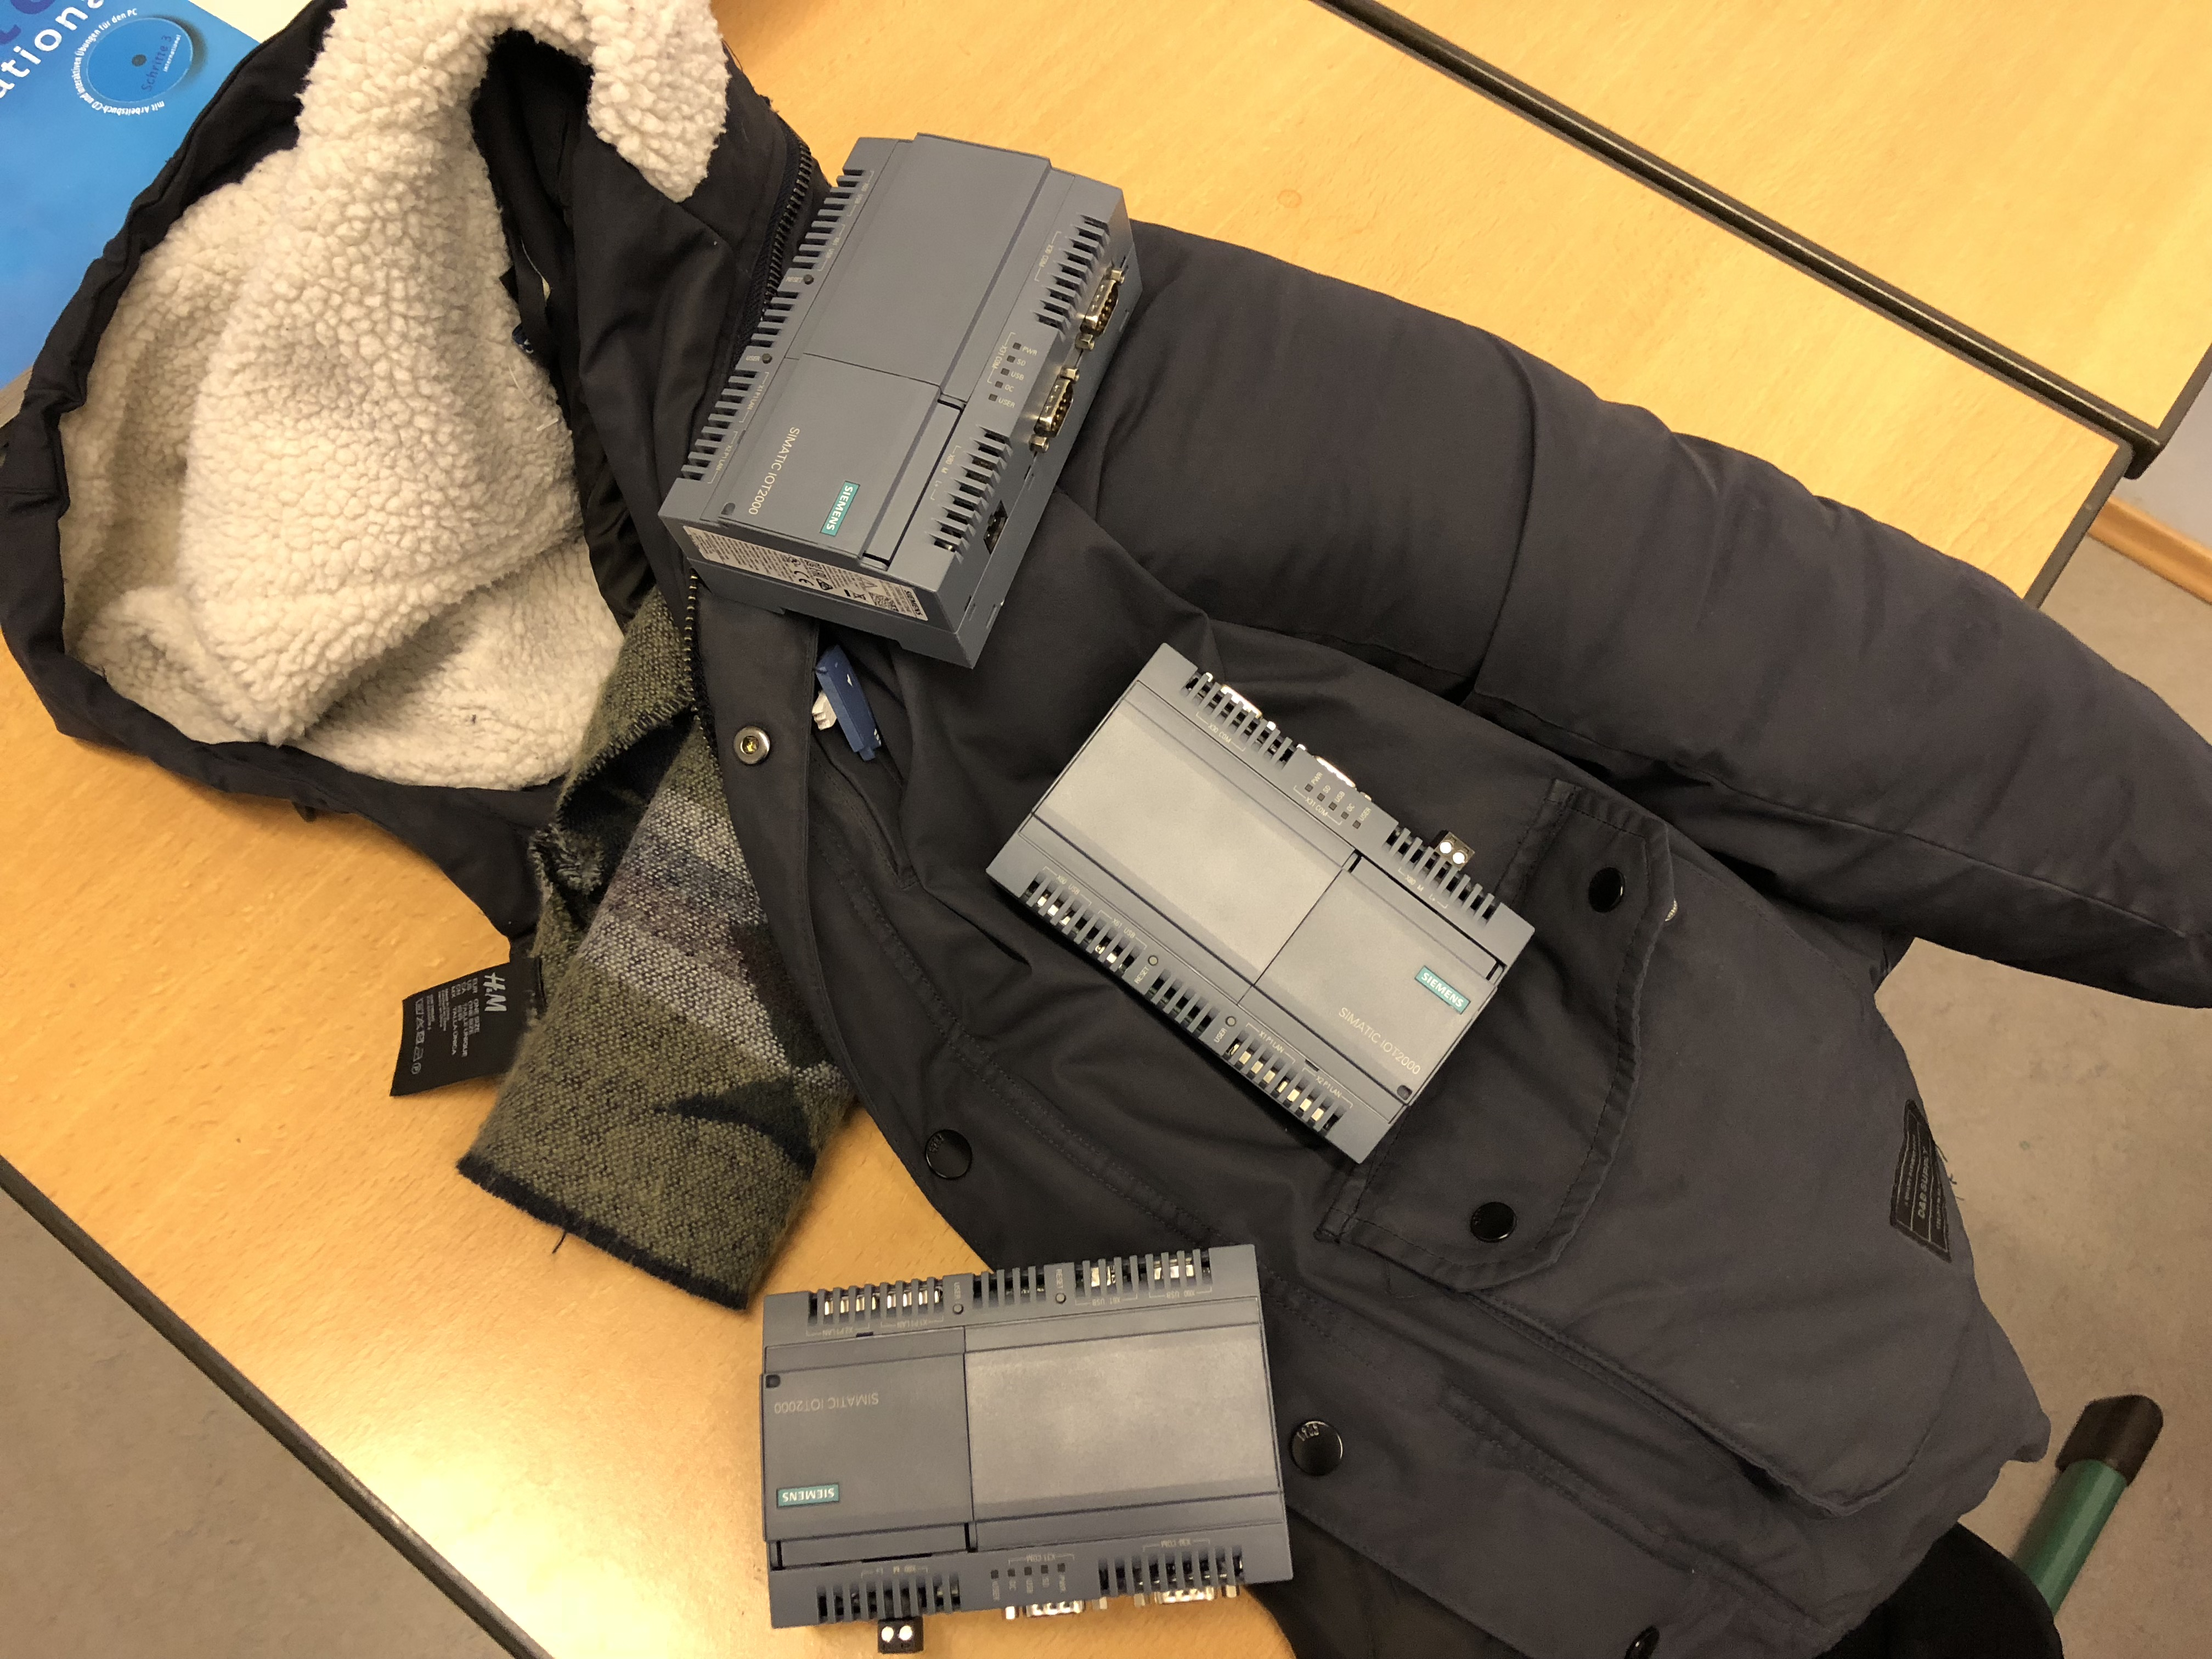device: (984, 643, 1536, 1164), (658, 132, 1144, 671), (758, 1244, 1294, 1654)
